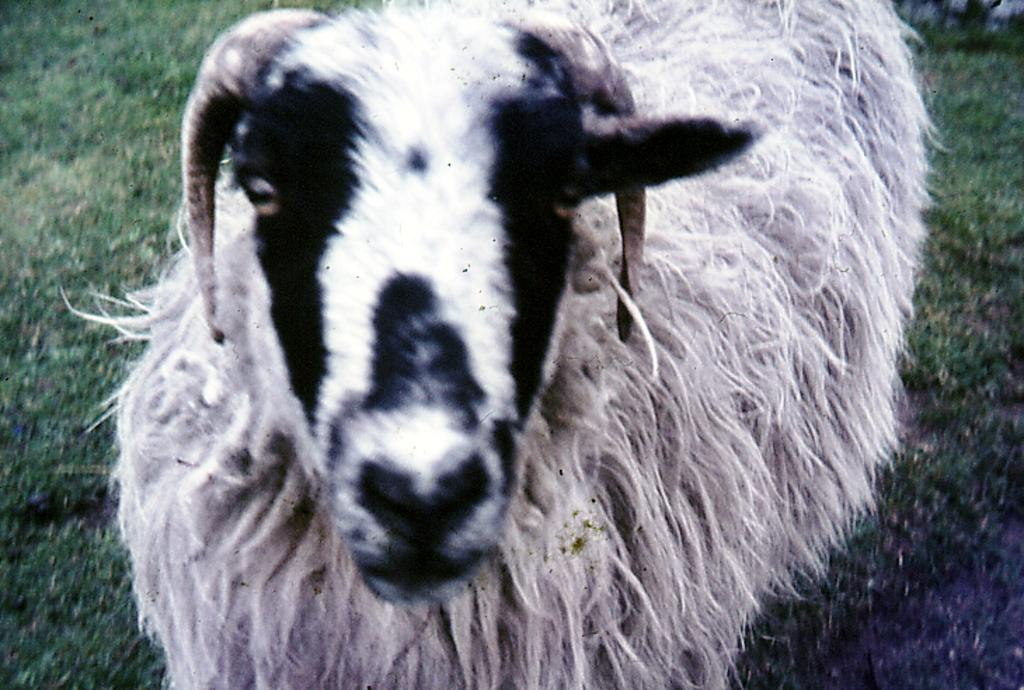Sheep: (84, 3, 986, 690)
